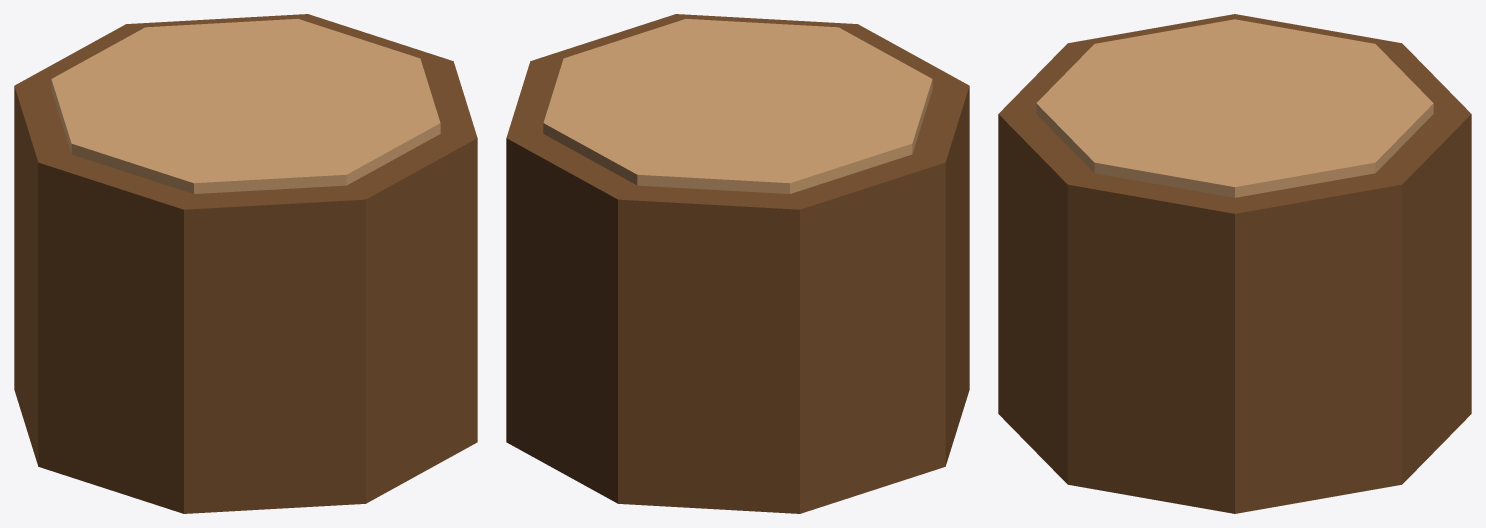
Rendered from dc-stump-CMhqAsjK.glb.
The picture shows the model from 3 angles, left to right: view 1: azimuth 30°, elevation 25°; view 2: azimuth 150°, elevation 25°; view 3: azimuth 270°, elevation 25°; orthographic projection.
Parts seen in each view (by area): view 1: Cylinder; view 2: Cylinder; view 3: Cylinder.
Part boxes in pixels (x1,y1,x2,y2): Cylinder: (14,14,477,513); Cylinder: (506,14,969,513); Cylinder: (998,14,1471,513).
Bounding box in the file's own units: 0.1 × 0.0725 × 0.1.
